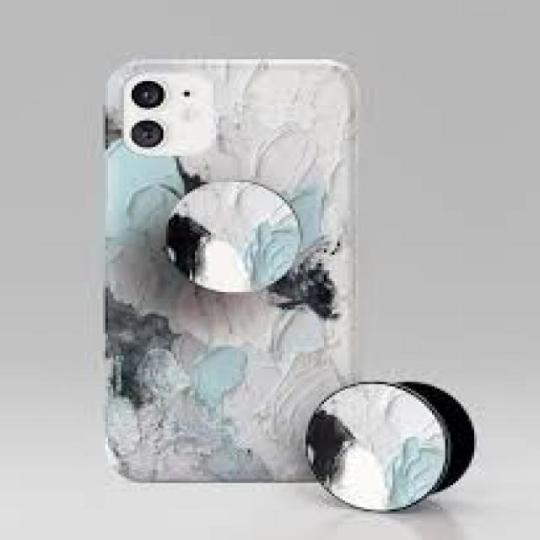phone: (105, 48, 362, 486)
